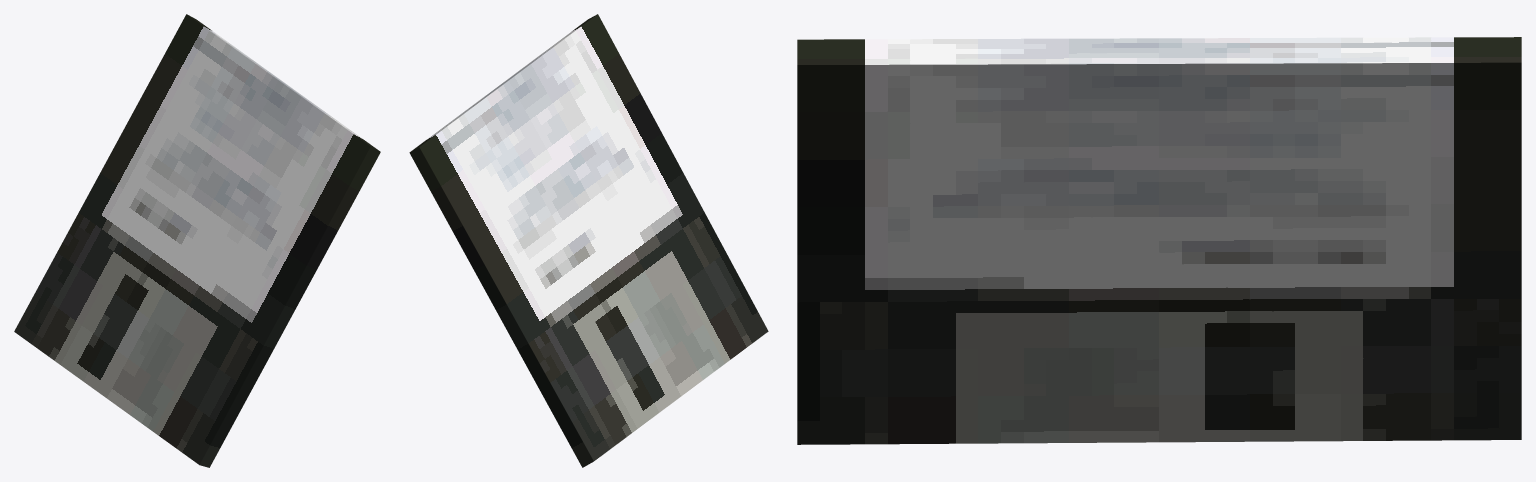
The model's file is FLOPPYDISK.glb.
The picture shows the model from 3 angles, left to right: view 1: azimuth 30°, elevation 25°; view 2: azimuth 150°, elevation 25°; view 3: azimuth 270°, elevation 25°; orthographic projection. The views are drawn at different scales.
Visible parts, largest first — view 1: FLOPPYDISK; view 2: FLOPPYDISK; view 3: FLOPPYDISK.
Boxes of the visible parts, left/top/right/bottom form: FLOPPYDISK: left=14, top=14, right=380, bottom=467; FLOPPYDISK: left=409, top=14, right=768, bottom=467; FLOPPYDISK: left=797, top=37, right=1521, bottom=444.
Size of the model in its own units: 0.074 by 0.107 by 0.125.
Materials: 1 (1 with a texture image).
